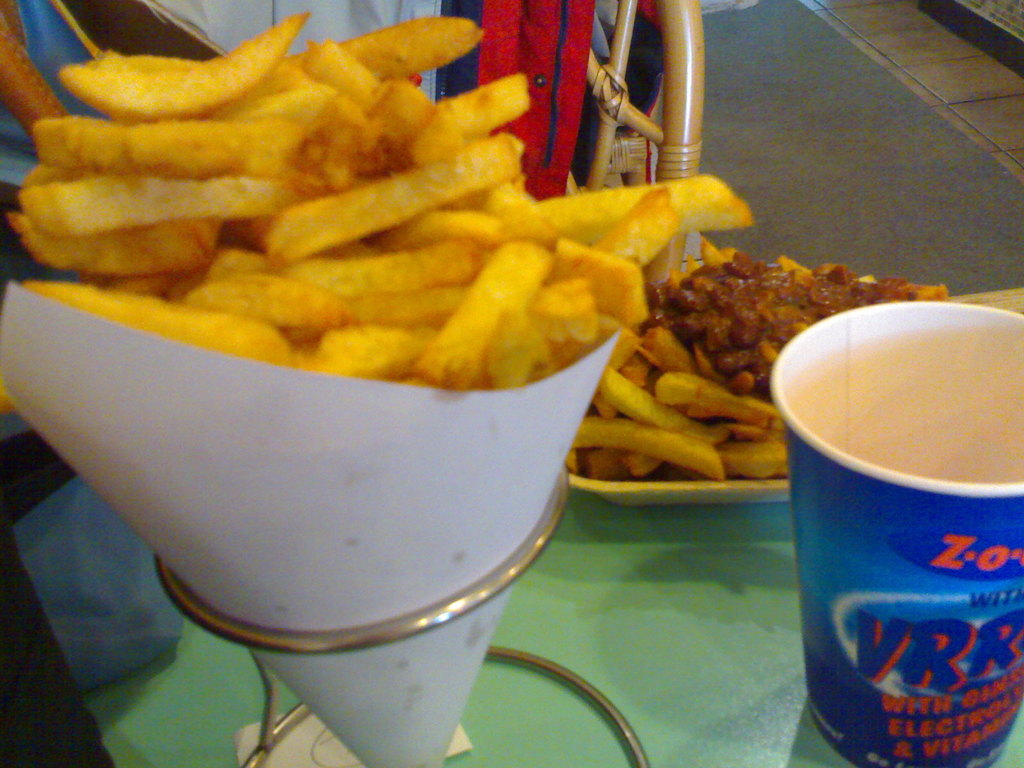French fries: (19, 32, 682, 393), (567, 241, 950, 482)
